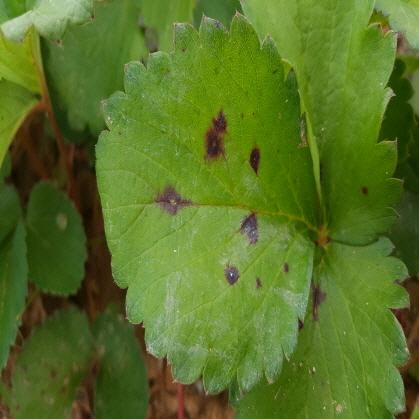Leaf Spot: (94, 9, 320, 397), (239, 0, 405, 246), (227, 235, 412, 418), (6, 302, 99, 418)
